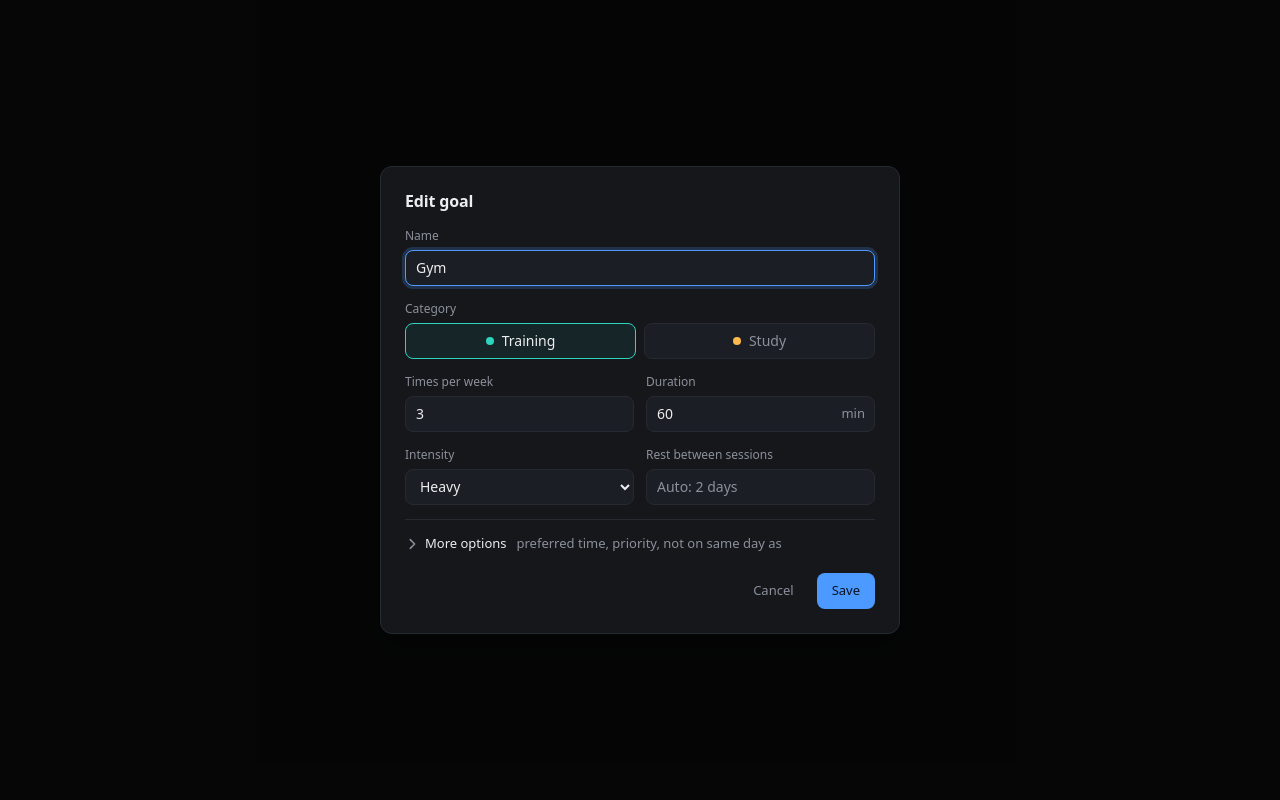
Test: GoalDialog "Not on the same day as" › lists the other goals sorted by name, without the goal being edited
The image size is (1280, 800).
Click the button "More options preferred time, priority, not on same day as": (640, 544) [405, 532, 875, 555]
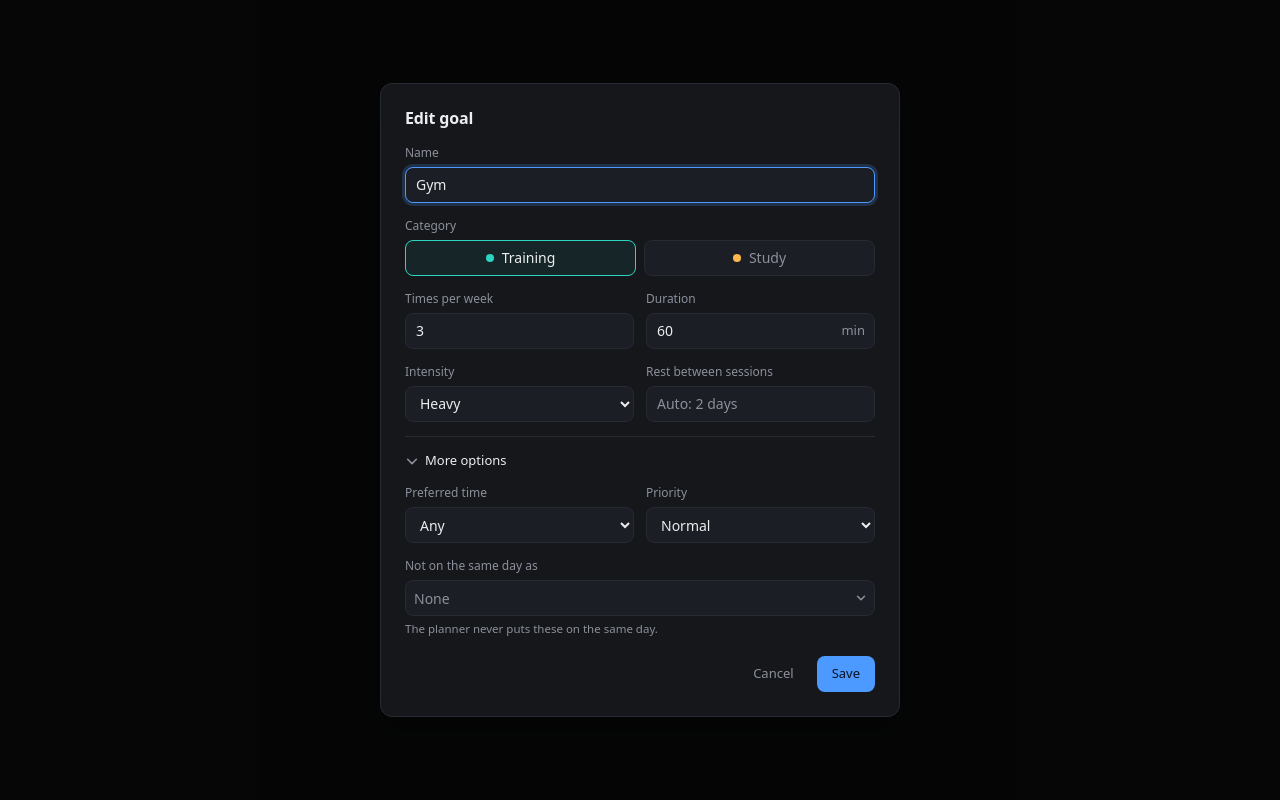
Click the button named "Not on the same day as": (432, 598) [414, 585, 868, 611]
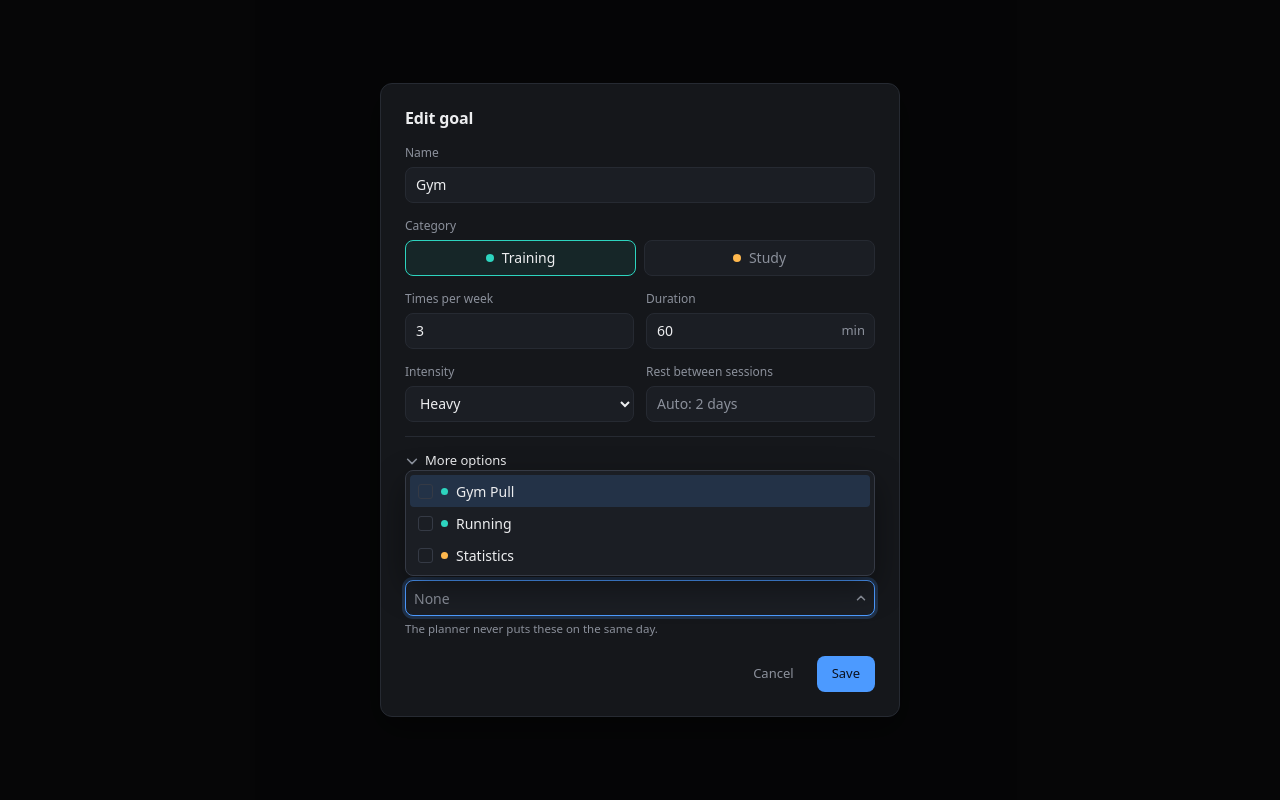
Expected: the options read "Gym Pull", "Running", "Statistics", in this order, [410, 475, 870, 507]; [418, 514, 512, 533]; [418, 546, 514, 565]
